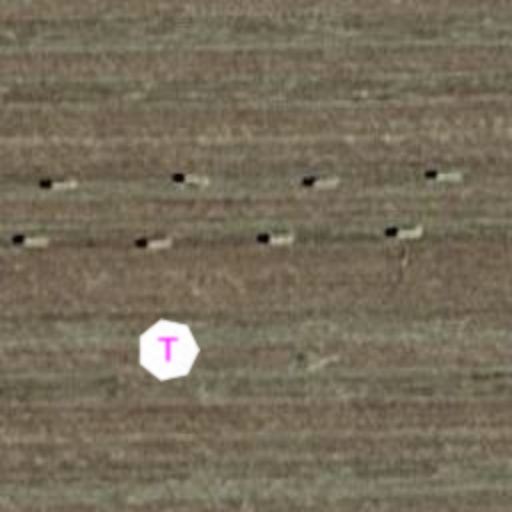heptagon: (136, 318, 200, 382)
